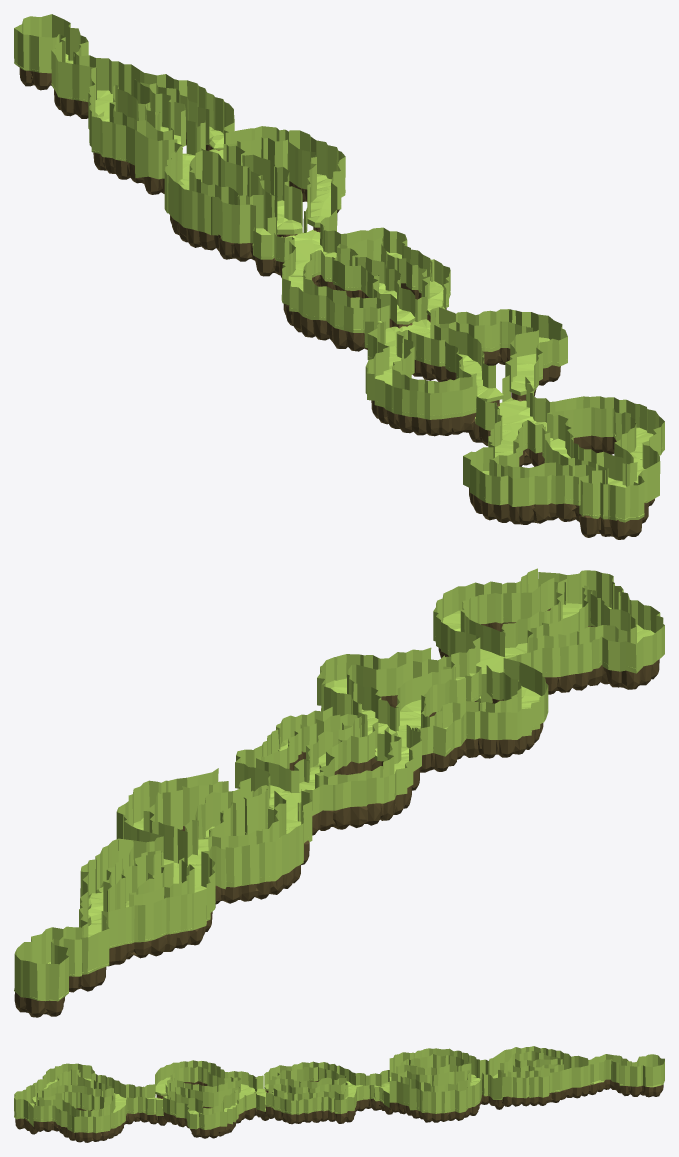
The model's file is IslandVersion2.fbx.
3 renders of one model, top to bottom at view 1: azimuth 30°, elevation 25°; view 2: azimuth 150°, elevation 25°; view 3: azimuth 270°, elevation 25°, orthographic. The views are drawn at different scales.
Visible parts, largest first — view 1: Walls, Rock, Grass; view 2: Walls, Rock, Grass; view 3: Walls, Rock, Grass.
Part boxes in pixels (x1=…): Walls: x1=14, y1=14, x2=664, y2=519; Rock: x1=19, y1=68, x2=654, y2=539; Grass: x1=14, y1=54, x2=664, y2=522; Walls: x1=14, y1=568, x2=664, y2=1000; Rock: x1=14, y1=608, x2=659, y2=1017; Grass: x1=14, y1=603, x2=664, y2=1001; Walls: x1=14, y1=1046, x2=664, y2=1132; Rock: x1=15, y1=1079, x2=663, y2=1142; Grass: x1=14, y1=1073, x2=662, y2=1133.
Size of the model in its own units: 2289 by 1162 by 11212.
